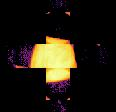earth: (30, 36, 77, 82)
